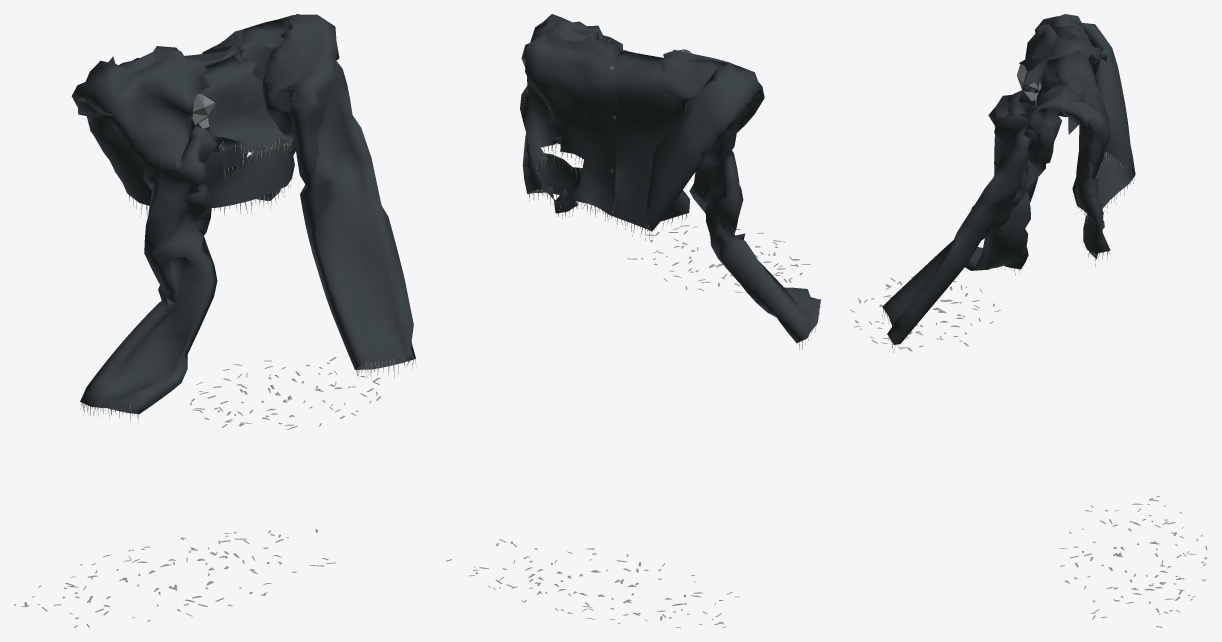
File: her_jacket_aged.glb
3 views of the same model, side by side, from view 1: azimuth 30°, elevation 25°; view 2: azimuth 150°, elevation 25°; view 3: azimuth 270°, elevation 25° (orthographic). The views are drawn at different scales.
Parts seen in each view (by area): view 1: Jacket, FloorFibreDust, Jacket_FrayedYarns, SeatFibreDust, Lapel_L; view 2: Jacket, FloorFibreDust, SeatFibreDust, Jacket_FrayedYarns; view 3: Jacket, FloorFibreDust, SeatFibreDust.
Boxes of the visible parts, left/top/right/bottom form: Jacket: left=71, top=14, right=415, bottom=414; FloorFibreDust: left=14, top=529, right=336, bottom=627; Jacket_FrayedYarns: left=80, top=137, right=416, bottom=422; SeatFibreDust: left=190, top=357, right=381, bottom=429; Lapel_L: left=192, top=73, right=215, bottom=128; Jacket: left=520, top=14, right=820, bottom=342; FloorFibreDust: left=446, top=539, right=739, bottom=627; SeatFibreDust: left=627, top=225, right=810, bottom=292; Jacket_FrayedYarns: left=528, top=138, right=821, bottom=349; Jacket: left=882, top=14, right=1135, bottom=344; FloorFibreDust: left=1059, top=496, right=1207, bottom=627; SeatFibreDust: left=850, top=276, right=1001, bottom=351.
Size of the model in its own units: 0.5725 by 0.9853 by 0.631.
4 materials, 1 textured.
